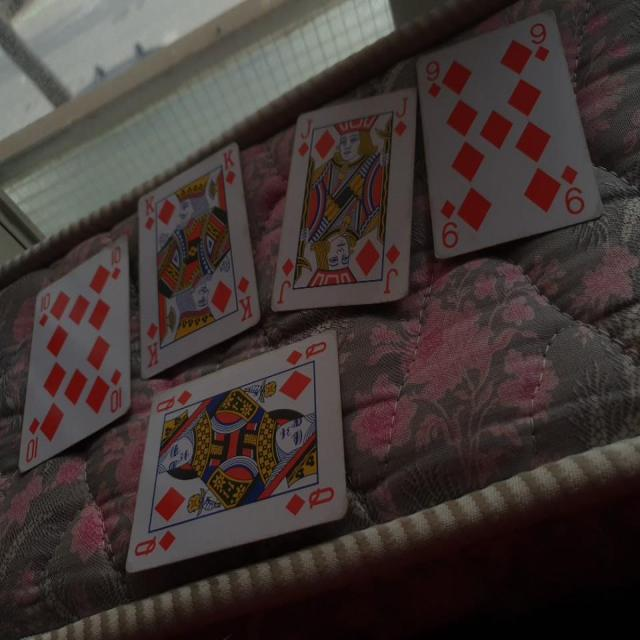10 Diamonds: (14, 233, 135, 476)
9 Diamonds: (414, 9, 603, 260)
J Diamonds: (267, 85, 416, 314)
K Diamonds: (133, 142, 262, 382)
Q Diamonds: (122, 326, 350, 574)
